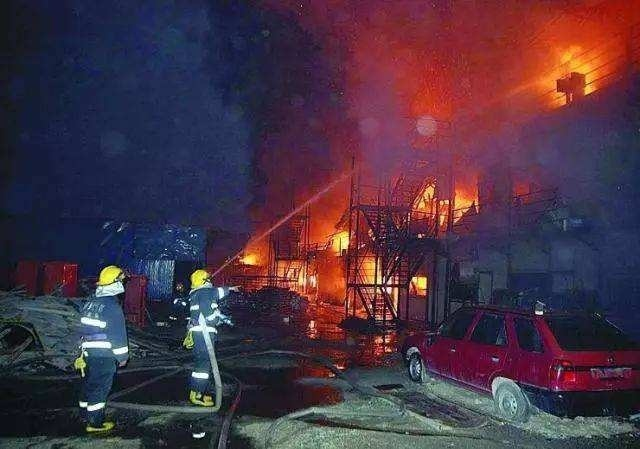fire: (236, 149, 475, 324), (545, 45, 598, 101)
